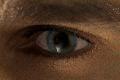eye: (47, 30, 78, 54)
